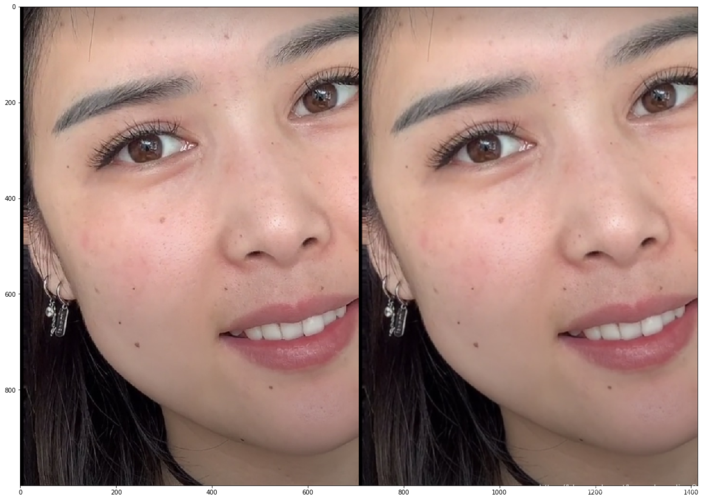nomask: (393, 18, 703, 431)
